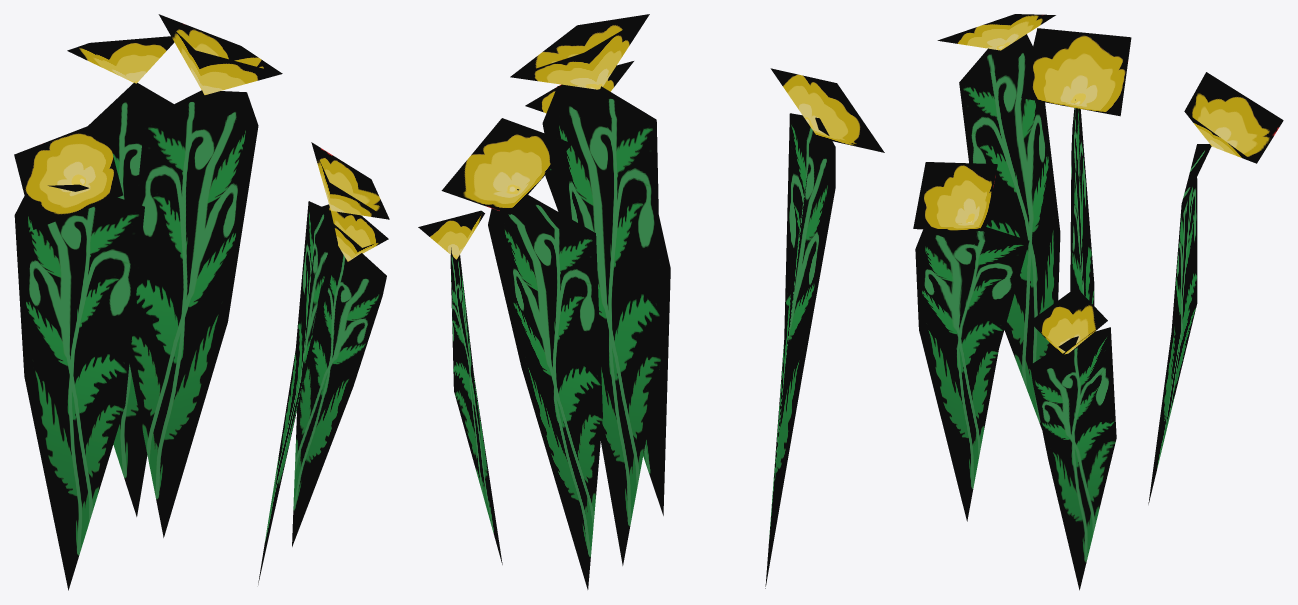
Rendered from Dandelion.fbx.
3 views of the same model, side by side, from view 1: azimuth 30°, elevation 25°; view 2: azimuth 150°, elevation 25°; view 3: azimuth 270°, elevation 25° (orthographic). The views are drawn at different scales.
Parts seen in each view (by area): view 1: Dandelion; view 2: Dandelion; view 3: Dandelion.
Boxes of the visible parts, x1=… form: Dandelion: x1=14, y1=14, x2=389, y2=590; Dandelion: x1=418, y1=14, x2=884, y2=589; Dandelion: x1=913, y1=14, x2=1283, y2=590.
Bounding box in the file's own units: 0.6317 × 0.8191 × 0.5409.
